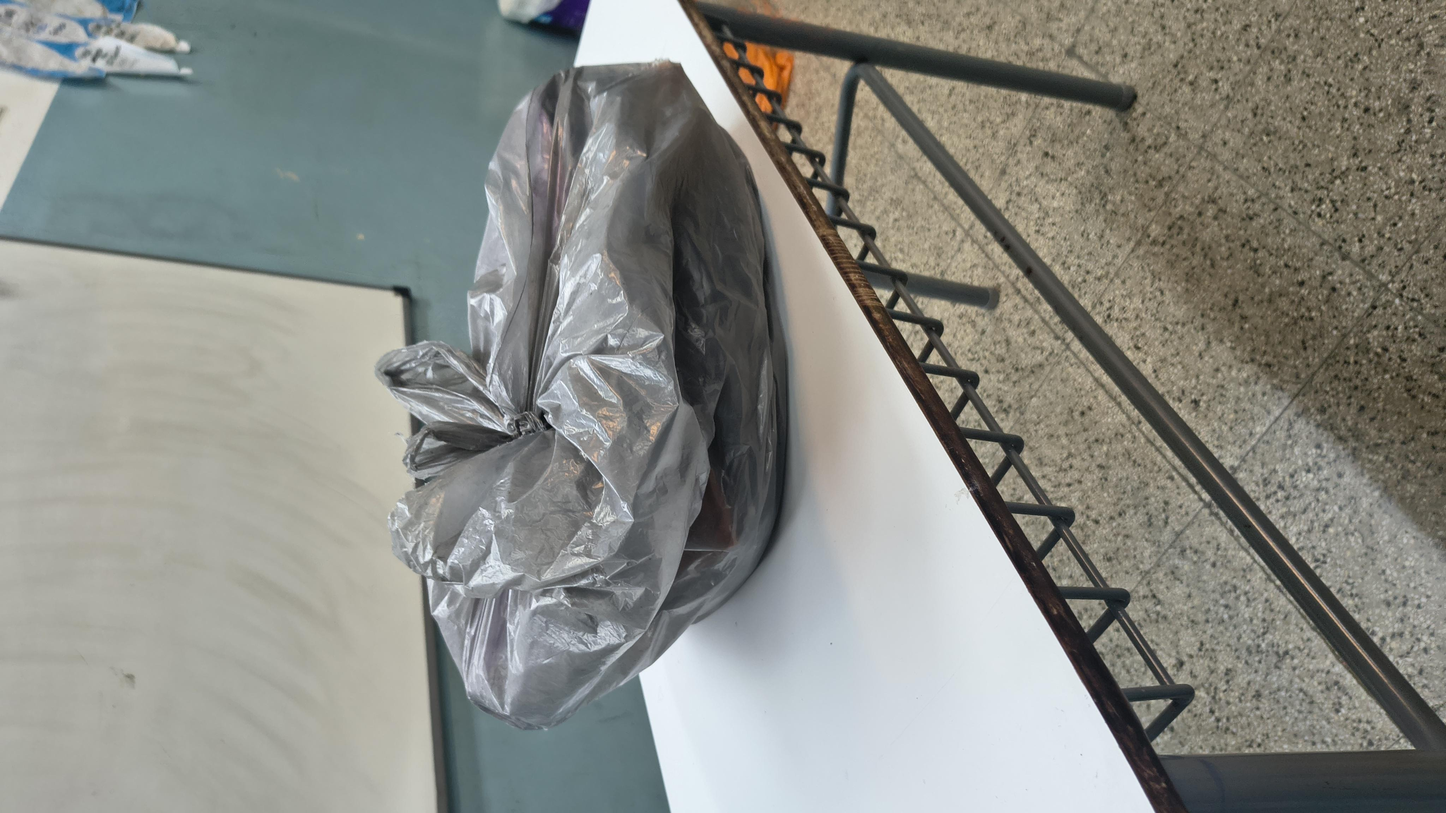Garbage: (151, 193, 1387, 457)
